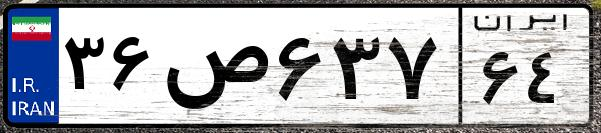3: (330, 28, 385, 110), (57, 26, 110, 100)
4: (525, 38, 570, 115)
6: (270, 28, 330, 110), (475, 38, 525, 113), (110, 28, 158, 98)
7: (385, 28, 445, 110)
ص: (158, 20, 270, 120)
